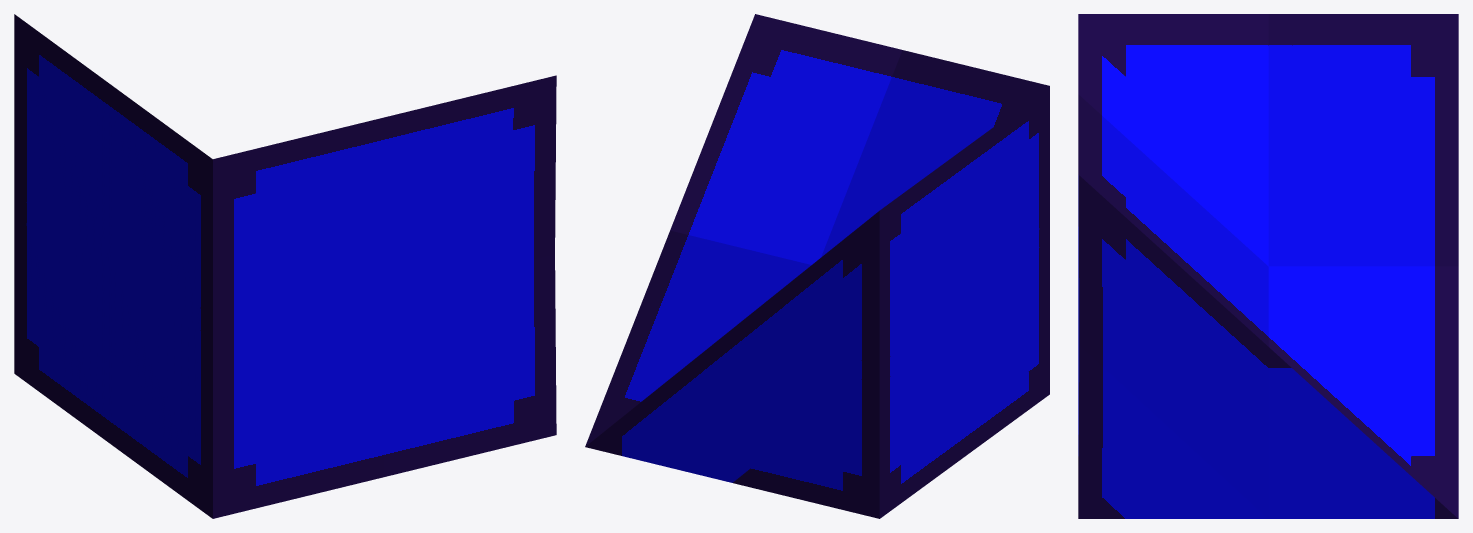
Rendered from 6_blue.obj.
3 renders of one model, left to right at view 1: azimuth 30°, elevation 25°; view 2: azimuth 150°, elevation 25°; view 3: azimuth 270°, elevation 25°, orthographic. The views are drawn at different scales.
Parts seen in each view (by area): view 1: 6_blue; view 2: 6_blue; view 3: 6_blue.
Part boxes in pixels (<box>): 6_blue: <box>14,14,556,518</box>; 6_blue: <box>585,14,1049,518</box>; 6_blue: <box>1078,14,1458,518</box>.
Size of the model in its own units: 1 by 1 by 1.
1 material, 1 textured.
